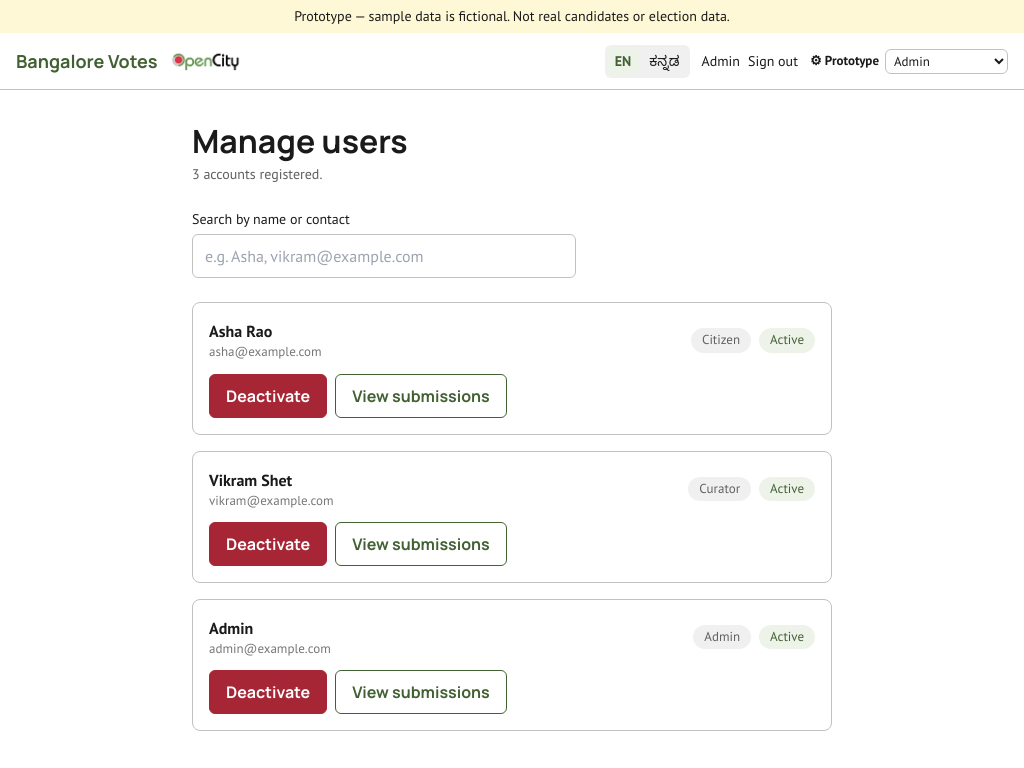
Test: viewing a user shows their submission history
The width and height of the screenshot is (1024, 768).
Click the button "View submissions" below "Asha Rao": (421, 396) x1=335 y1=374 x2=507 y2=418
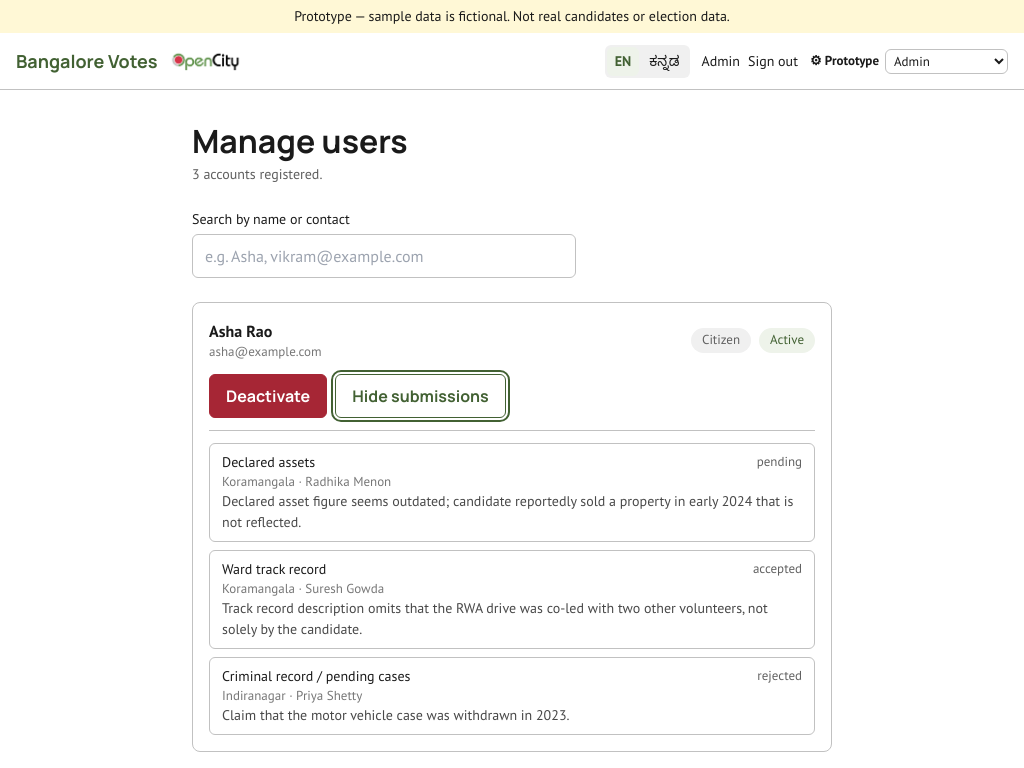
Check: the text "Declared assets" is shown, box x1=222 y1=452 x2=315 y2=473
